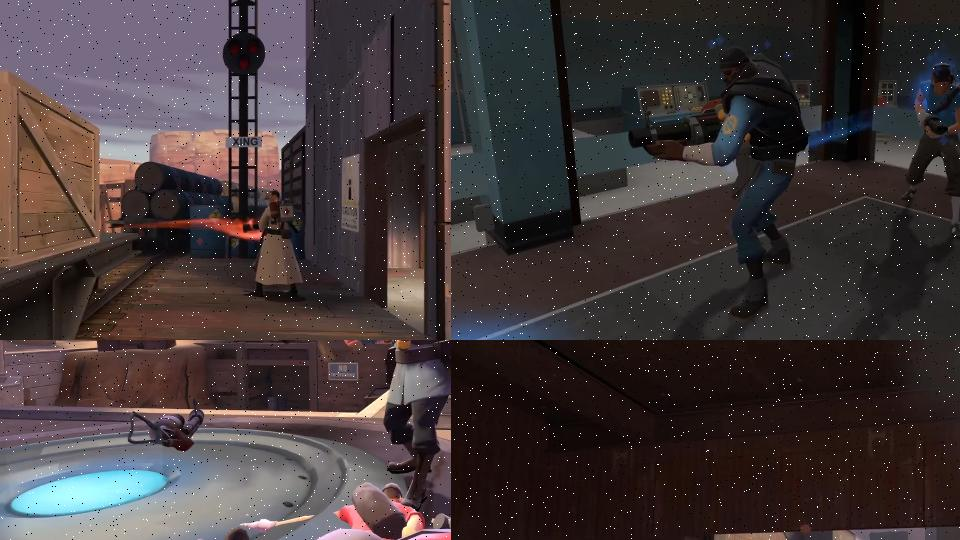Enemy: (625, 42, 810, 320), (254, 340, 451, 502), (100, 482, 426, 540), (899, 59, 960, 243), (243, 190, 304, 298)
